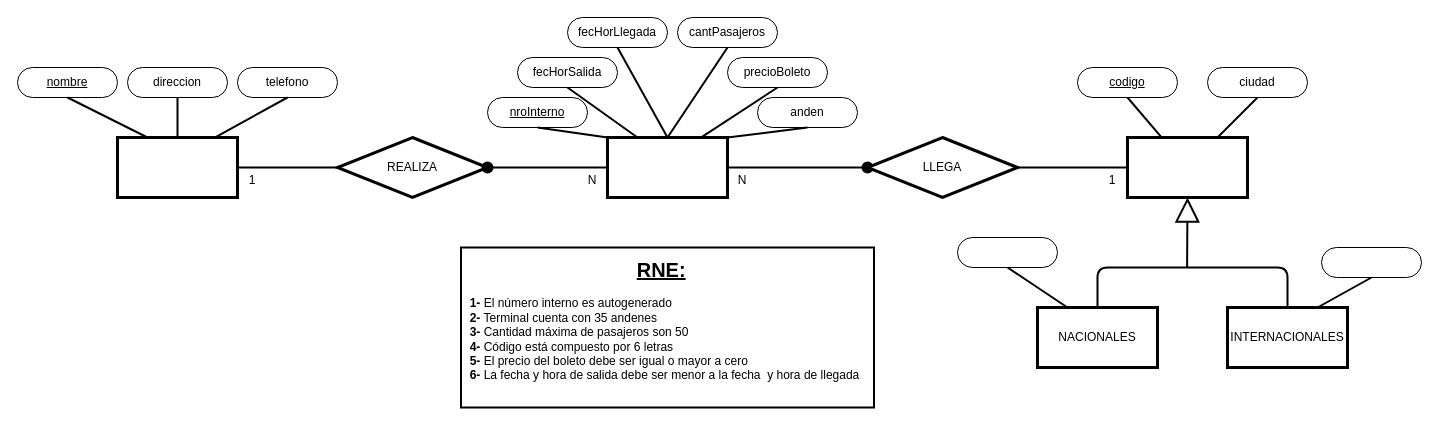
This 1439x426 diagram has some shape labels left out. The shapes that lost their labels are listed below. From the top down, each one's centre as x and y in pixels, then its label:
At (x=177, y=167): "COMPANIAS".
At (x=667, y=167): "VIAJES".
At (x=1187, y=167): "TERMINALES".
At (x=1007, y=252): "pais".
At (x=1371, y=262): "taxis".
